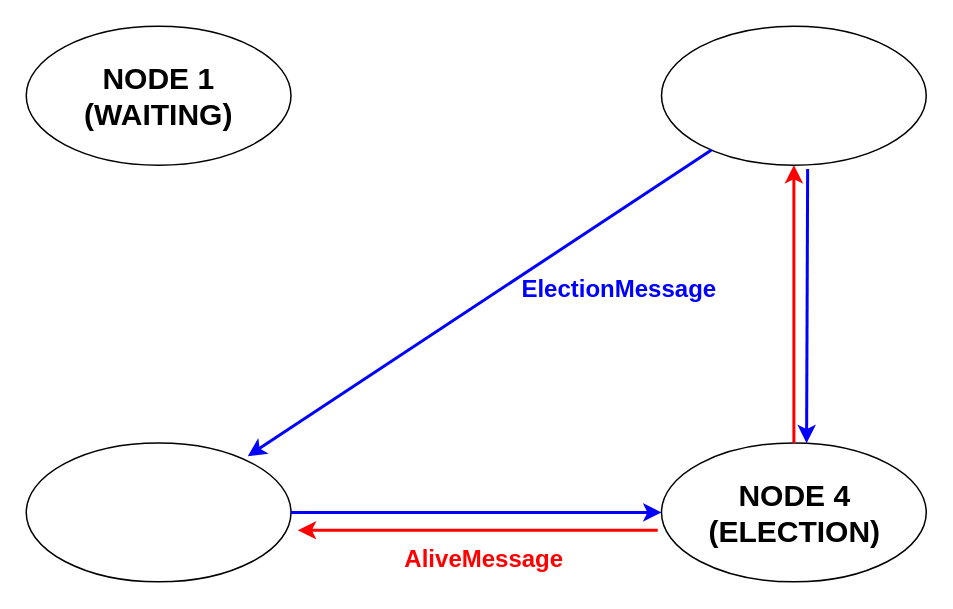
The diagram is 953 pixels wide and 609 high, and some of its shapes have lost their labels. Here are the shapes that lost their labels. From the top down, the centre of each, then its label:
At (x=793, y=95): "NODE 2 (ELECTION)".
At (x=158, y=511): "NODE 3 (ELECTION)".
